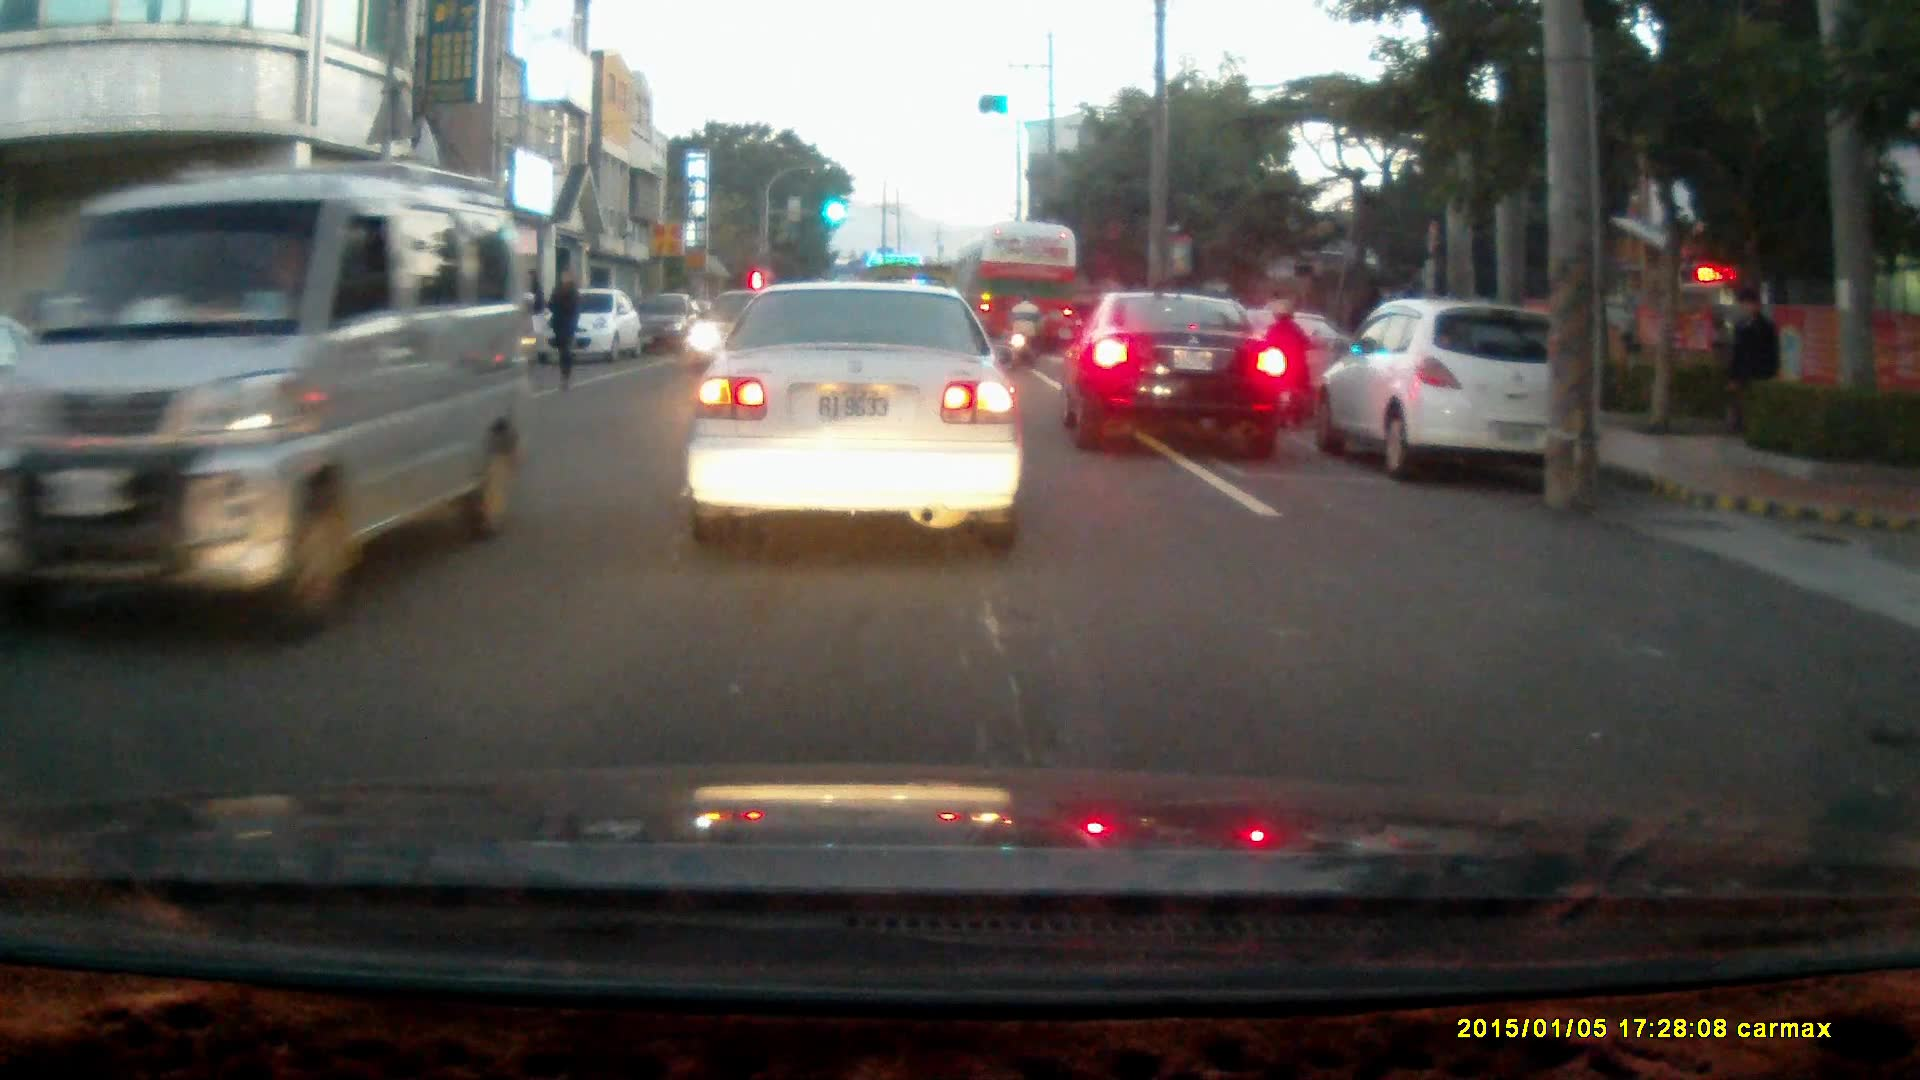pedestrian: (1724, 288, 1782, 450), (544, 263, 580, 392)
rider: (1265, 299, 1320, 434), (1006, 291, 1044, 370)
vehicle: (1, 164, 516, 640), (679, 281, 1028, 556), (1307, 296, 1592, 487), (1061, 293, 1292, 462), (965, 222, 1083, 361), (685, 288, 814, 383), (537, 287, 640, 363)
